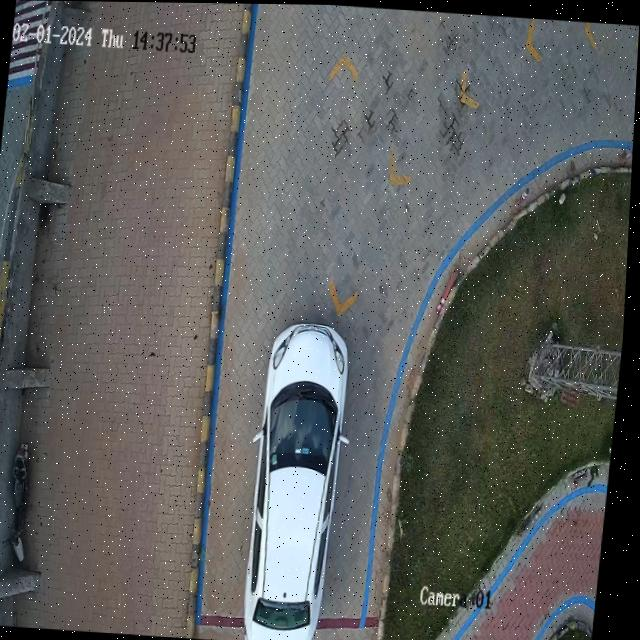car: (251, 323, 354, 640)
